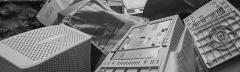electronic: (2, 14, 95, 72), (113, 10, 195, 72)
